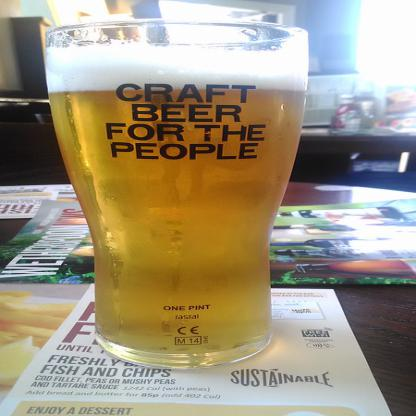drinking: (45, 19, 309, 369)
